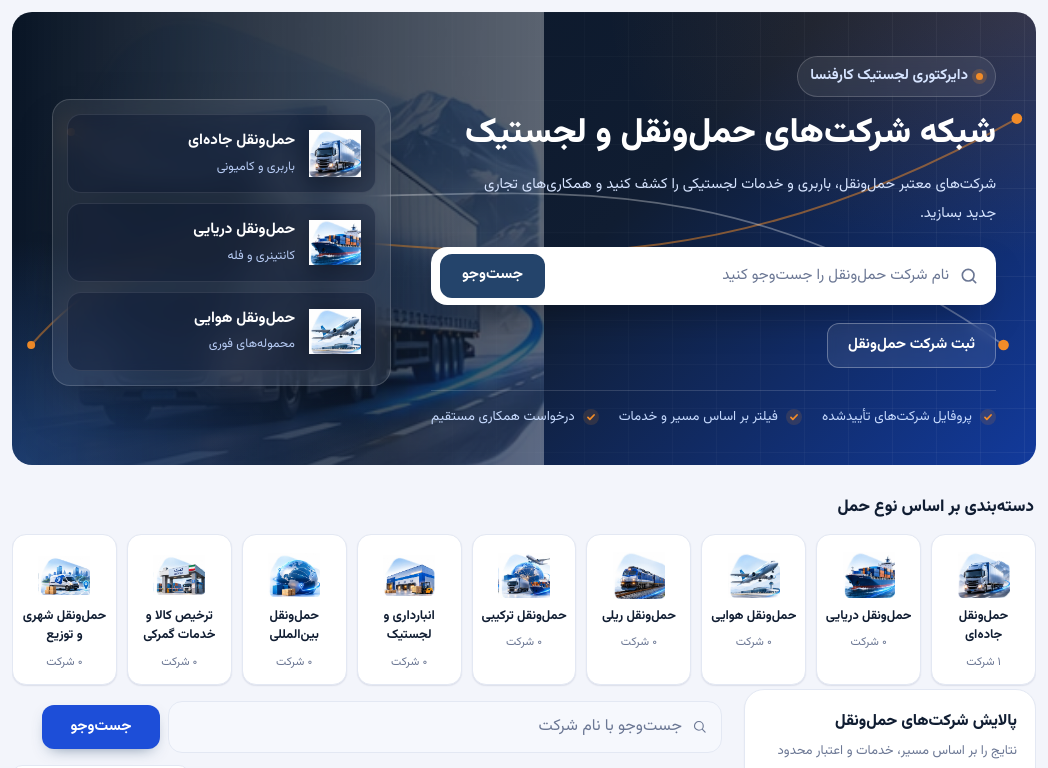
it: transportation directory › filters by category and opens a company profile from the real API
Expected: the heading "شبکه شرکت‌های حمل‌ونقل و لجستیک" is shown, top-left (431, 109), bottom-right (996, 159)
What coordinates should you click on to do the following:
click the option "حمل‌ونقل جاده‌ای ۱ شرکت"
I would click on:
 (984, 610)
Its box is top-left (931, 534), bottom-right (1036, 685).
(page scrolled)
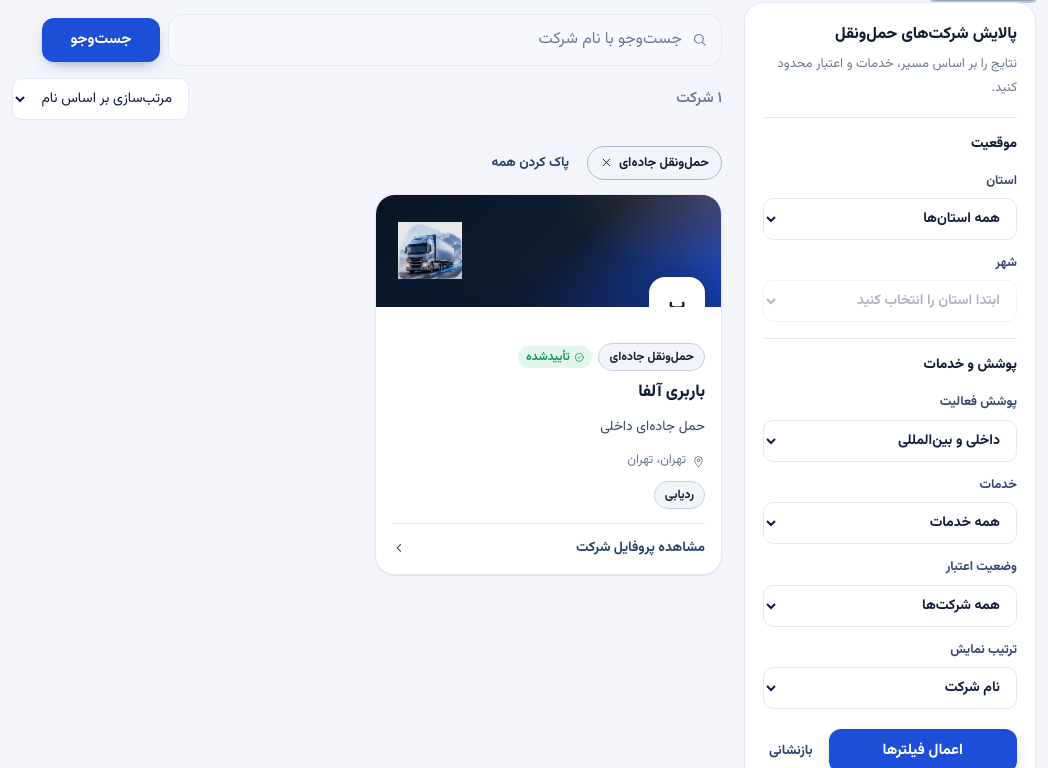
What coordinates should you click on to do the following:
click the link "باربری آلفا"
I would click on:
 (548, 251)
Its box is top-left (375, 194), bottom-right (722, 575).
(page scrolled)
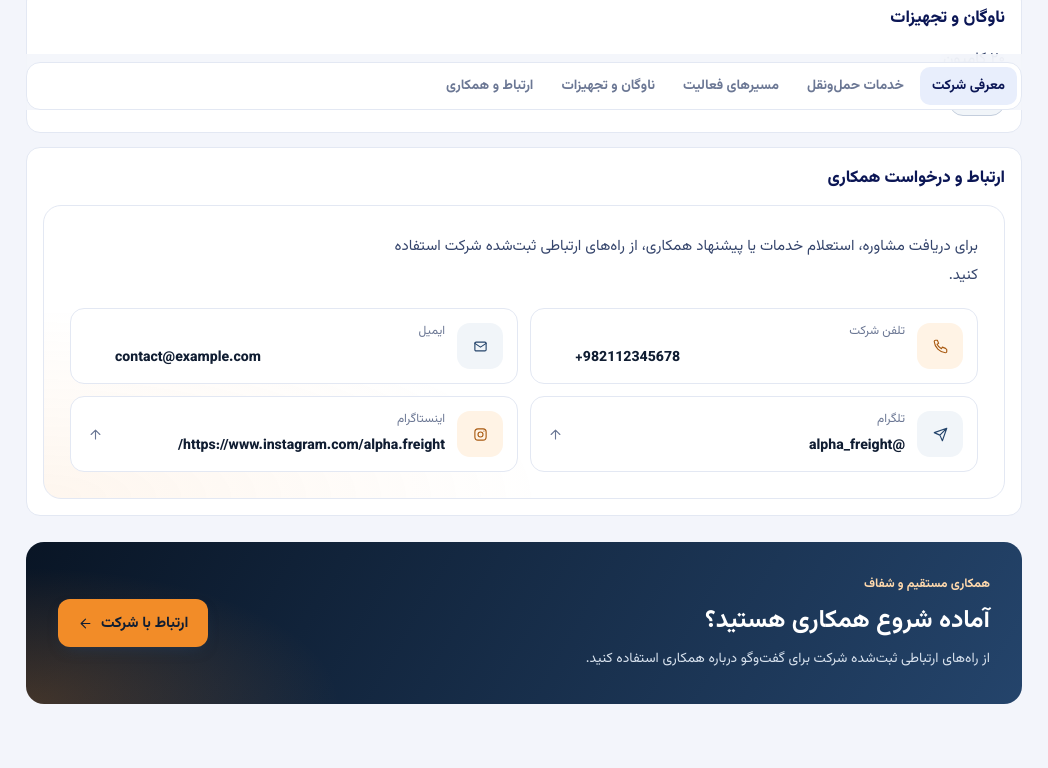
Now the text "۲۰ کامیون" is shown, box top-left (943, 47), bottom-right (1005, 71)
